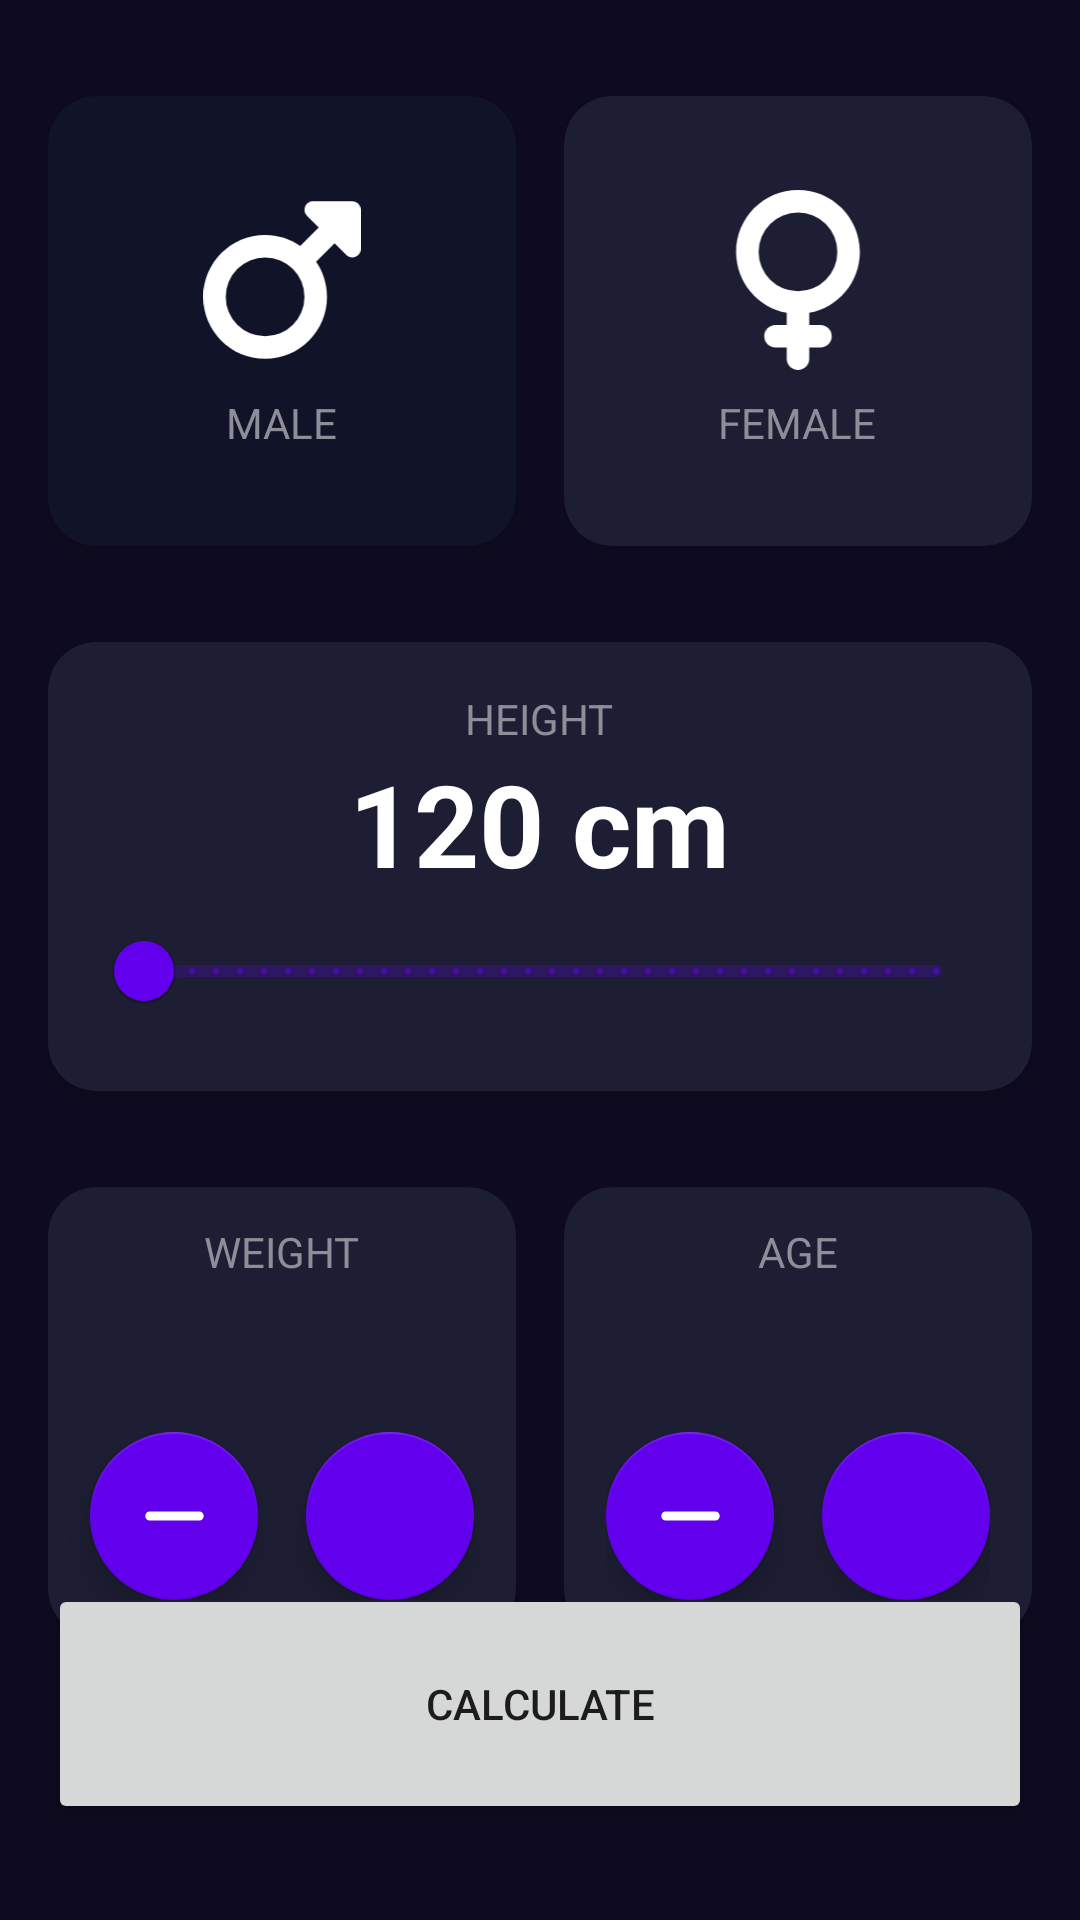

Where icons sit on this 1080 x 1920 app screen, as box(x1, y1, x2, y2):
Age Minus: box(606, 1432, 774, 1600)
subtraction: box(90, 1432, 258, 1600)
